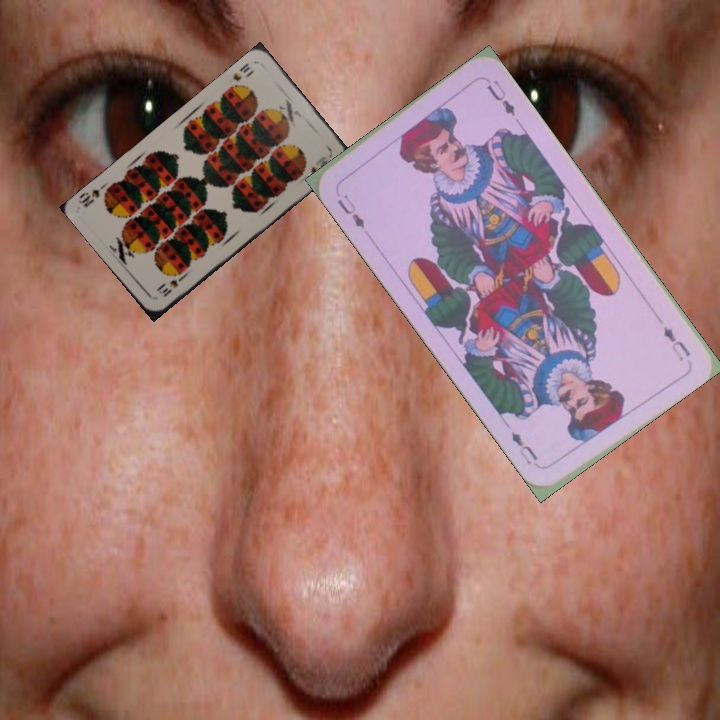EU: (333, 190, 368, 232), (659, 322, 693, 364)
S10: (154, 271, 188, 299), (228, 59, 252, 84)
